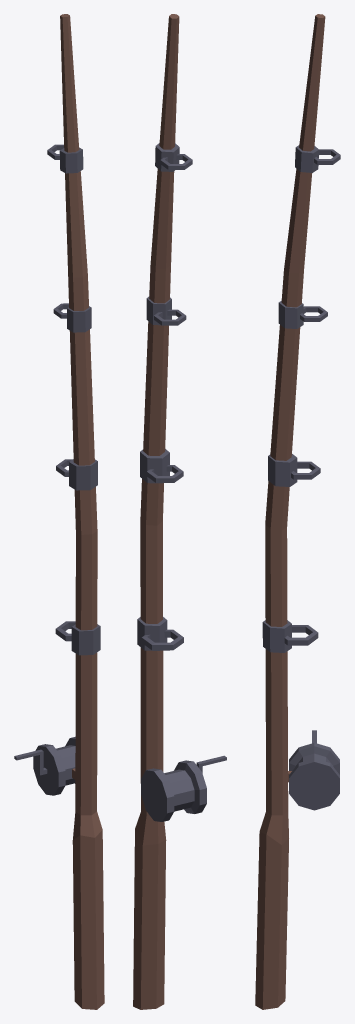
The model's file is FishingRod_Lvl2.glb.
3 views of the same model, side by side, from view 1: azimuth 30°, elevation 25°; view 2: azimuth 210°, elevation 25°; view 3: azimuth 270°, elevation 25° (orthographic). The views are drawn at different scales.
Visible parts, largest first — view 1: FishingRod_Lvl2; view 2: FishingRod_Lvl2; view 3: FishingRod_Lvl2.
Part boxes in pixels (x1,y1,x2,y2): FishingRod_Lvl2: [14, 14, 104, 1009]; FishingRod_Lvl2: [133, 14, 226, 1009]; FishingRod_Lvl2: [255, 14, 340, 1009].
Bounding box in the file's own units: 0.4704 × 6.34 × 0.4965.
